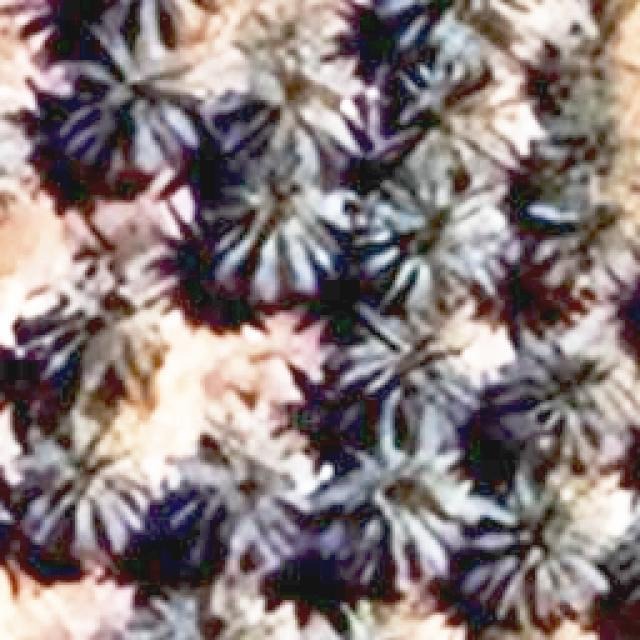PalmTree: (158, 59, 434, 239), (314, 411, 483, 580), (323, 418, 480, 590), (216, 10, 367, 175), (164, 414, 321, 572), (466, 468, 620, 628), (349, 164, 514, 311), (463, 471, 613, 626), (161, 425, 311, 574), (9, 268, 166, 405), (11, 409, 152, 561), (61, 40, 208, 182), (13, 407, 151, 558), (63, 35, 204, 182), (18, 264, 164, 404), (236, 14, 362, 175), (494, 330, 638, 468), (345, 306, 487, 439), (345, 303, 487, 434), (390, 54, 530, 186), (210, 159, 338, 303), (214, 159, 335, 310), (396, 58, 524, 190), (509, 334, 639, 462), (526, 196, 640, 300), (522, 199, 630, 298), (374, 0, 541, 56), (134, 582, 294, 640), (80, 4, 221, 59), (82, 0, 226, 53), (367, 0, 508, 52), (292, 602, 456, 640), (614, 493, 640, 635), (621, 490, 640, 623)
